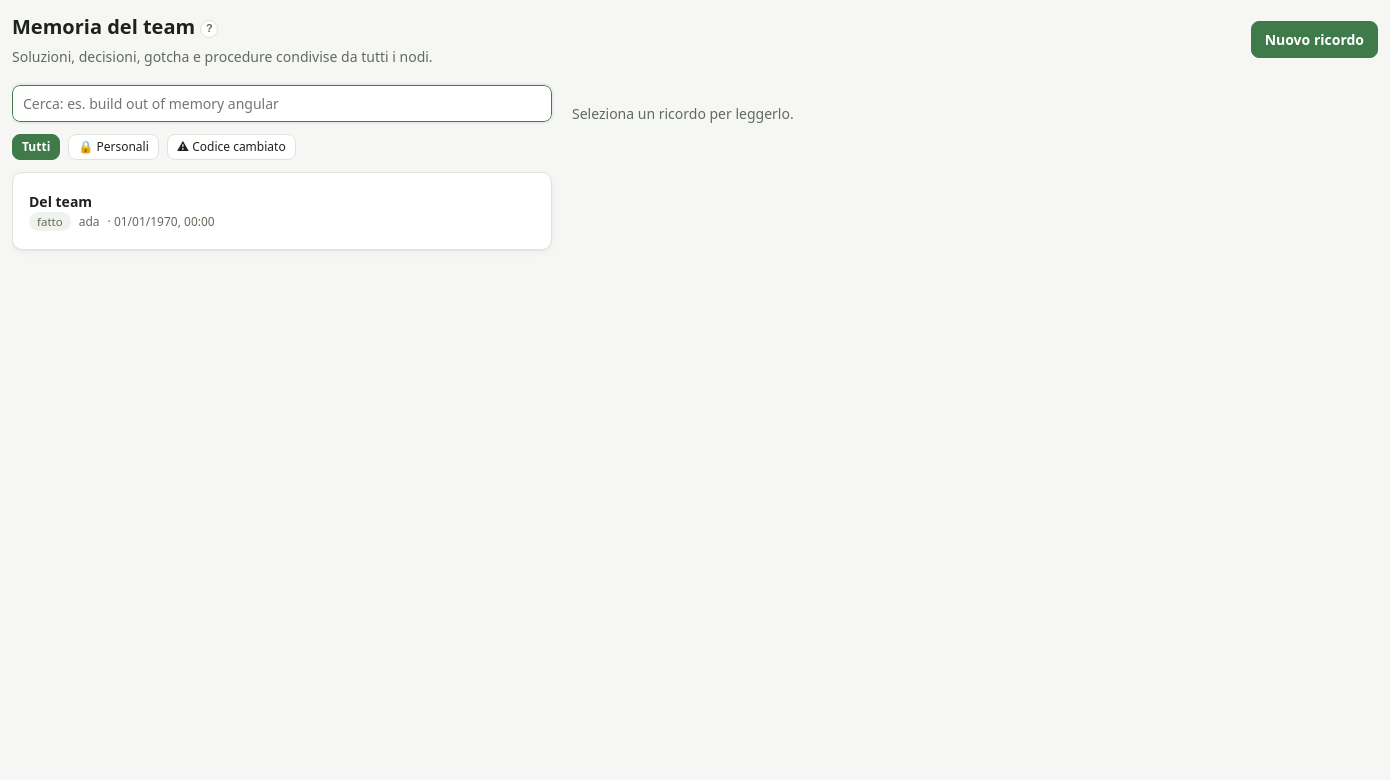
B4 nella UI › Memoria: filtro dei personali e salvataggio "solo per me"
Expected: the text "Del team" is shown, 29,192 -> 92,211
Click the button "🔒 Personali". click: (114, 147)
box: 68,134 -> 159,160
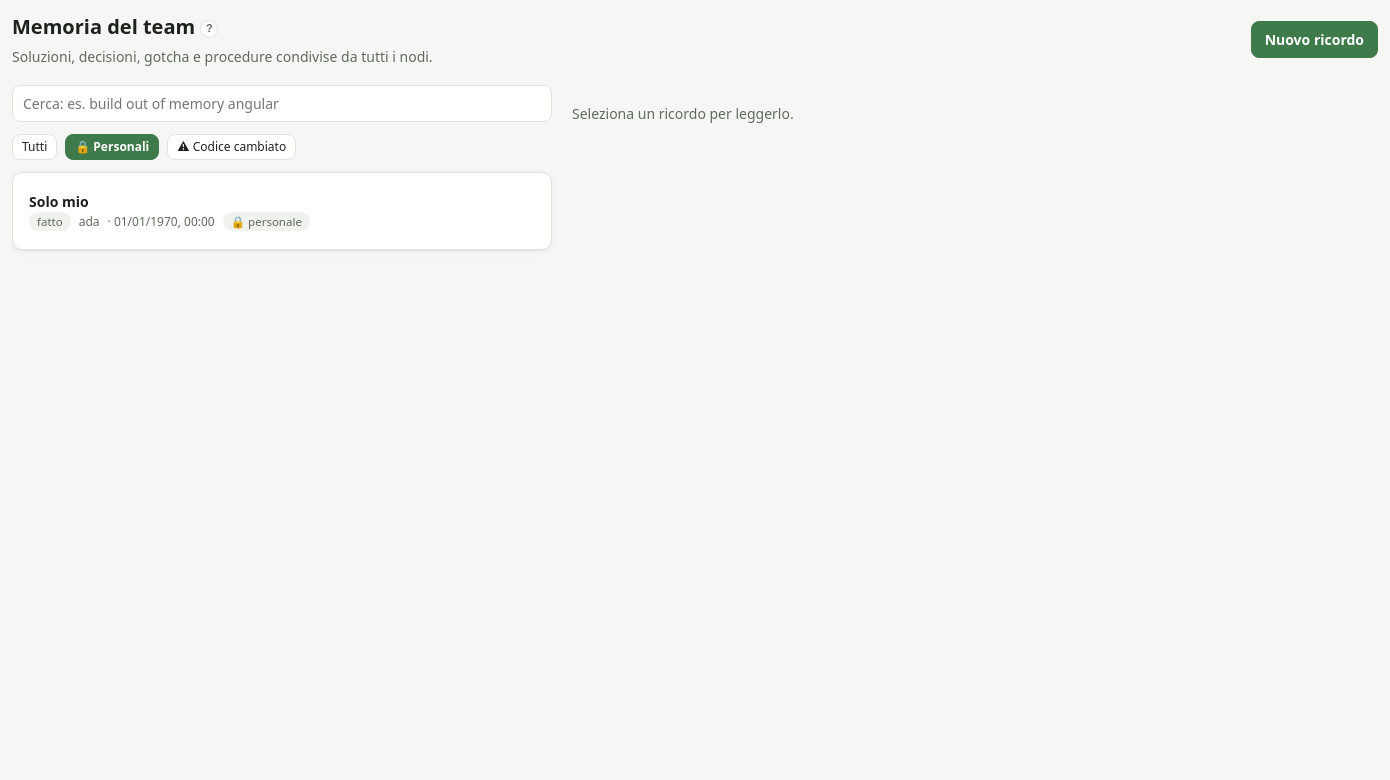
Now the text "Solo mio" is shown, box 29,192 -> 89,211
Now the text "🔒 personale" is shown, box 223,212 -> 310,231
Click the button "Nuovo ricordo". click: (1314, 40)
box: 1251,21 -> 1378,58
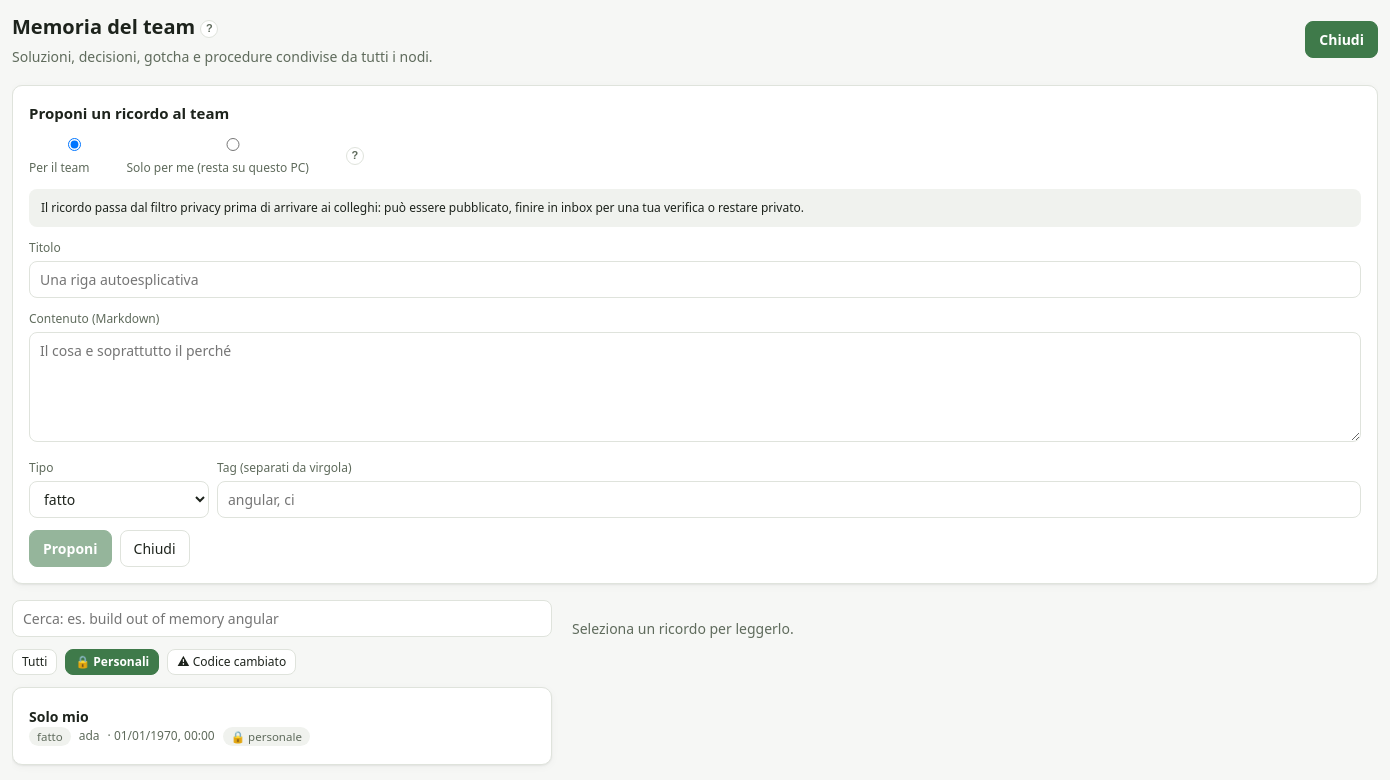
Click the radio button labelled "Solo per me (resta su questo PC)". click: (233, 144)
box: 132,138 -> 335,150
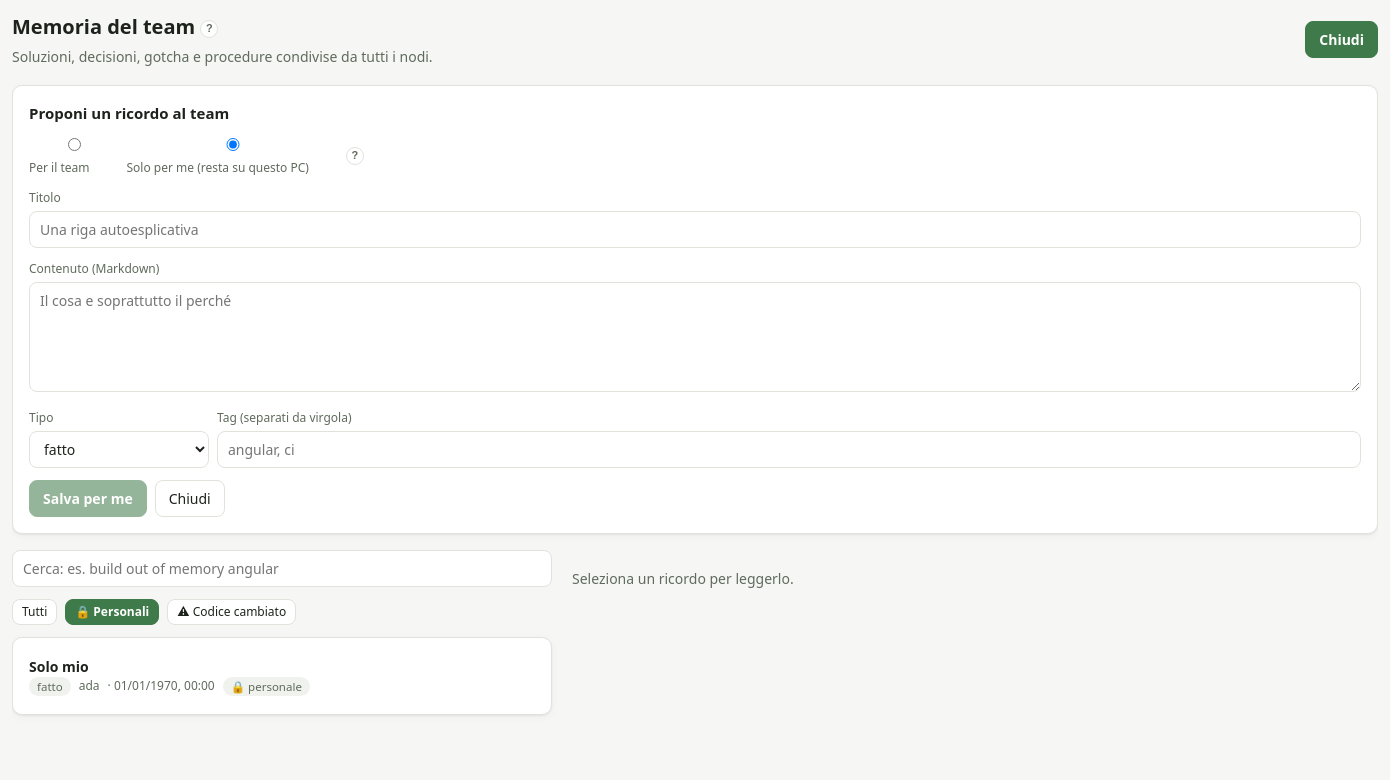
Type "Mio alias" into the field with placeholder "Una riga autoesplicativa". click: (695, 229)
box: 29,210 -> 1361,248
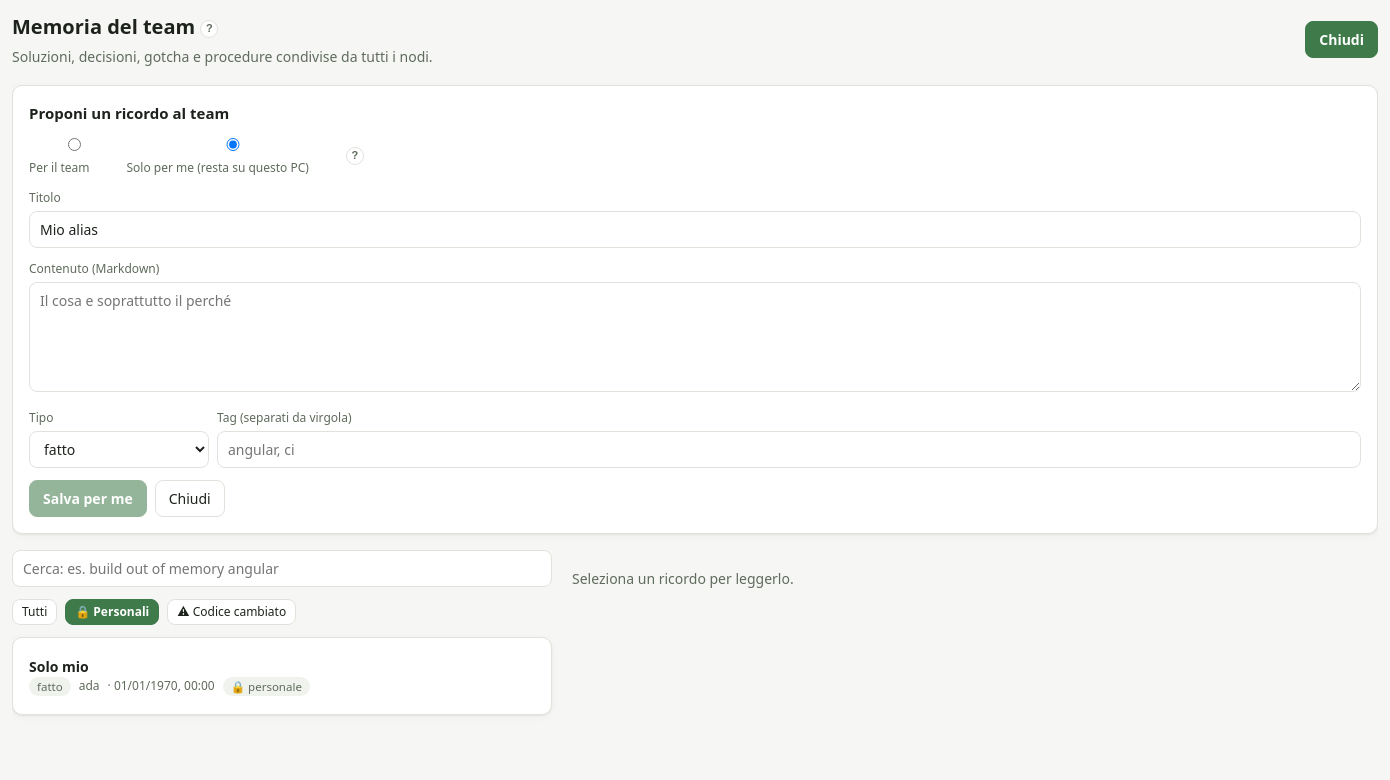
Type "alias gs=git status" into the text box with placeholder "Il cosa e soprattutto il perché". click: (695, 336)
box: 29,282 -> 1361,392
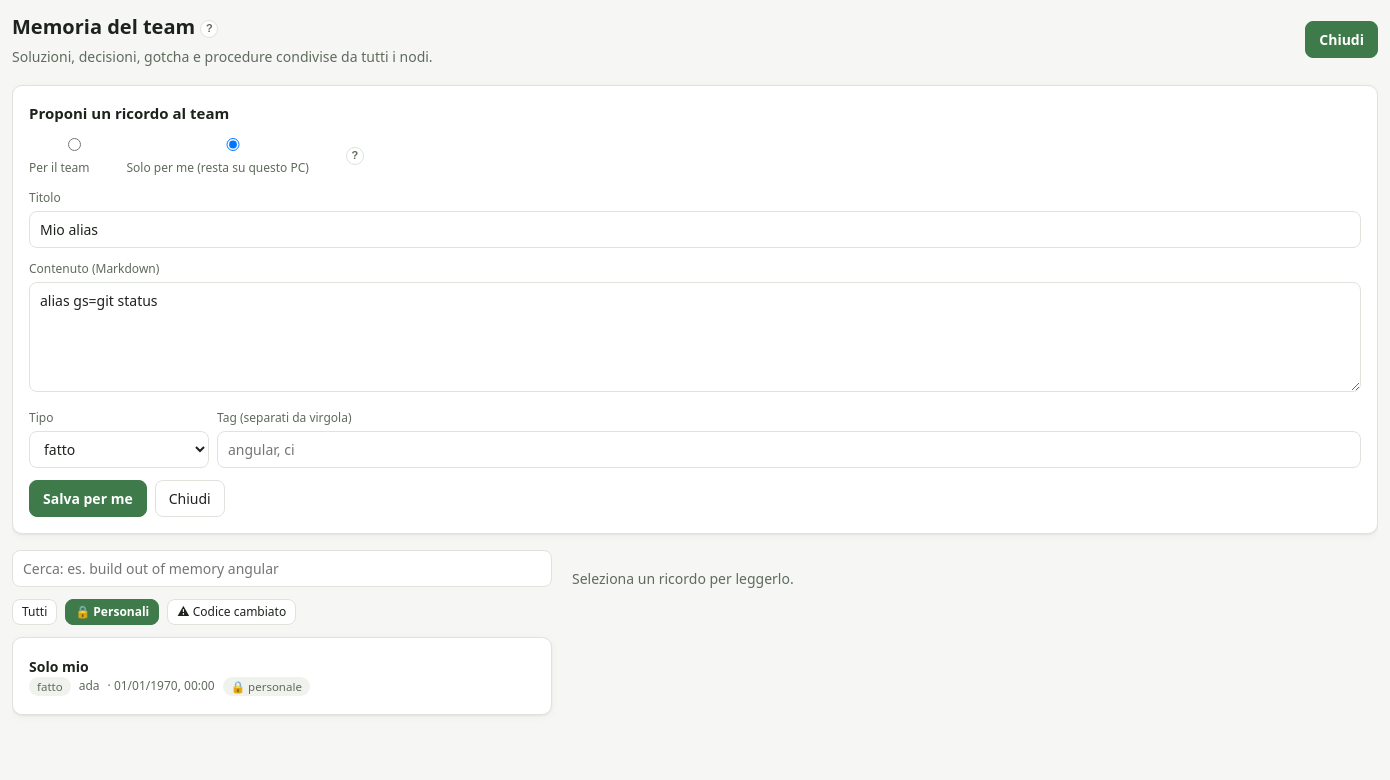
Click the button "Salva per me". click: (88, 498)
box: 29,480 -> 147,516
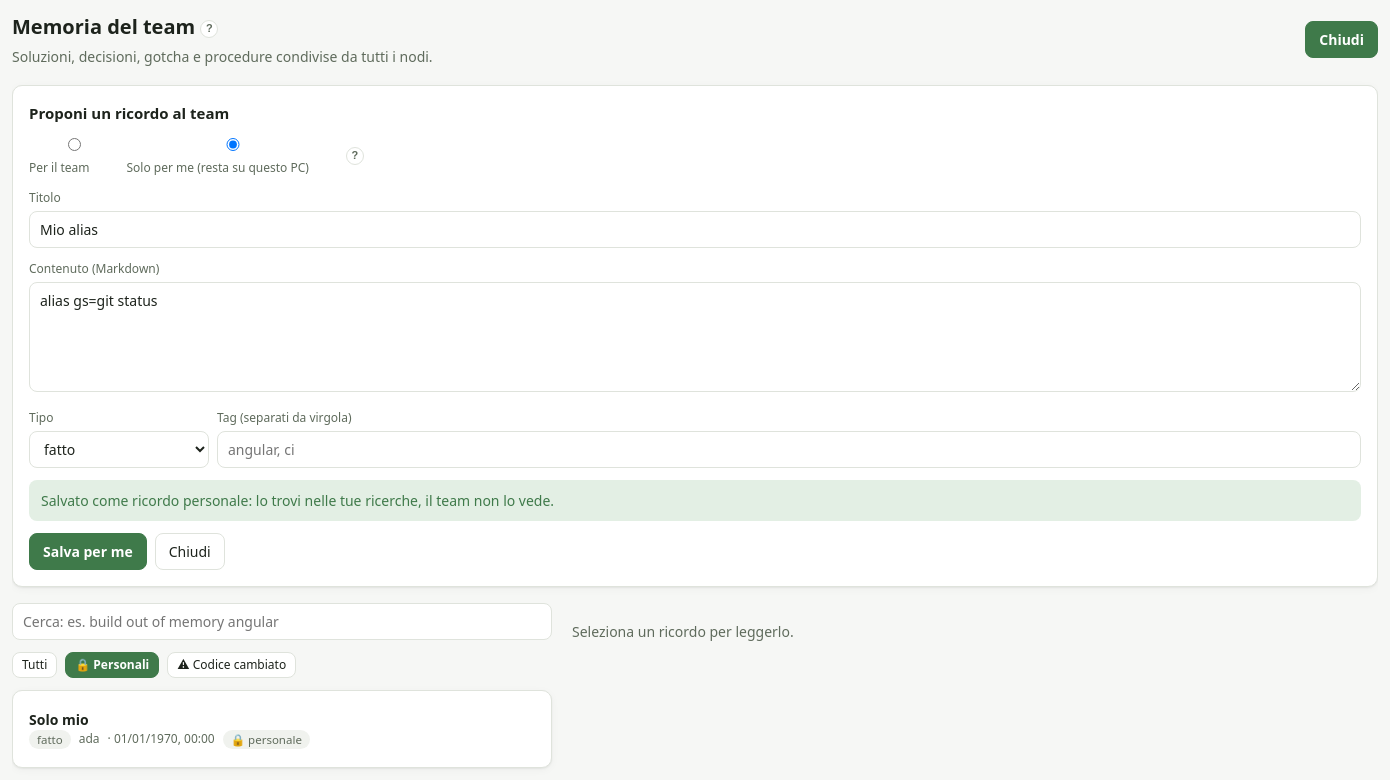
Now the text "Salvato come ricordo personale" is shown, box 41,490 -> 554,510
